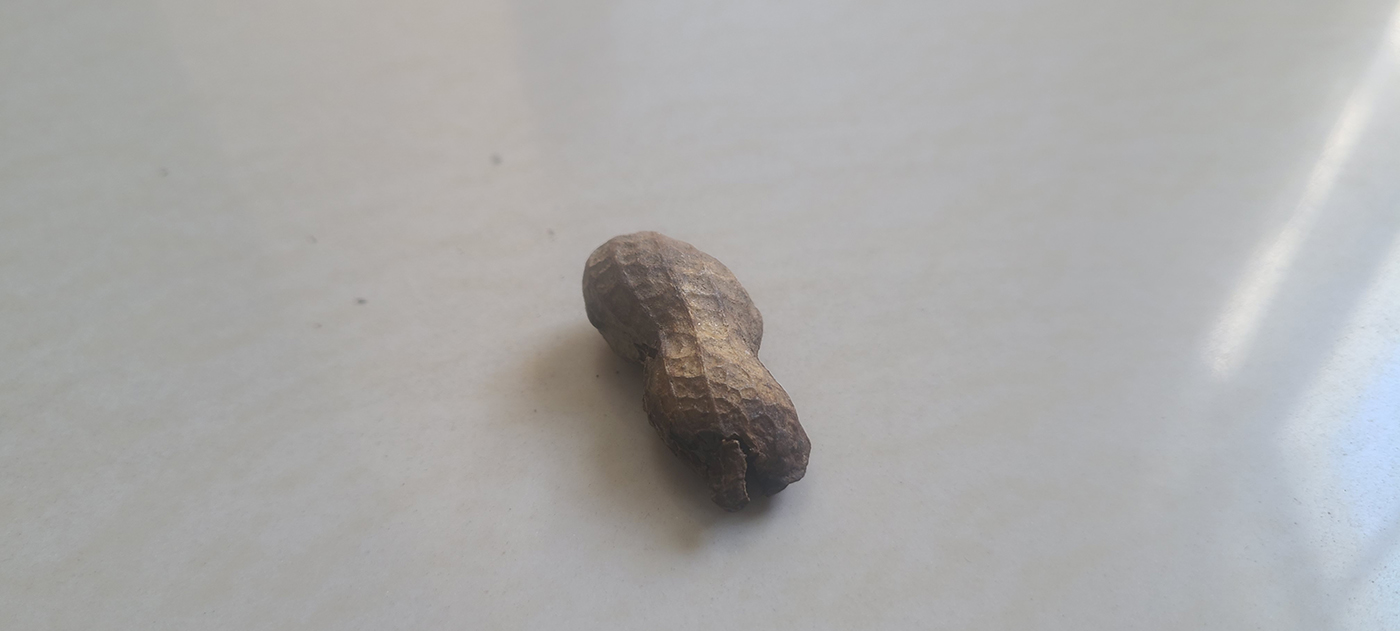l: (579, 229, 811, 505)
